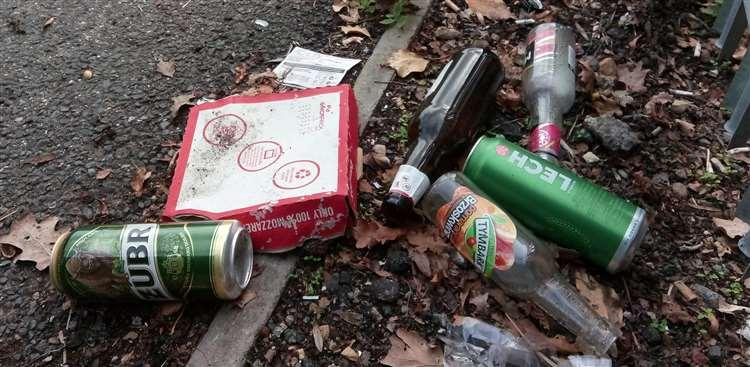cardboard: (168, 84, 367, 245)
glass: (413, 172, 628, 355), (388, 42, 503, 208), (514, 19, 589, 156)
metal: (466, 133, 651, 268), (46, 224, 259, 301)
